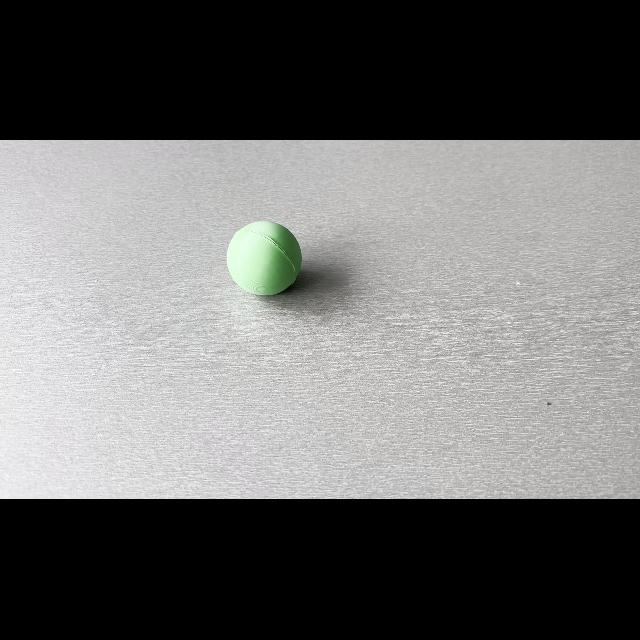objects: (224, 218, 306, 298)
